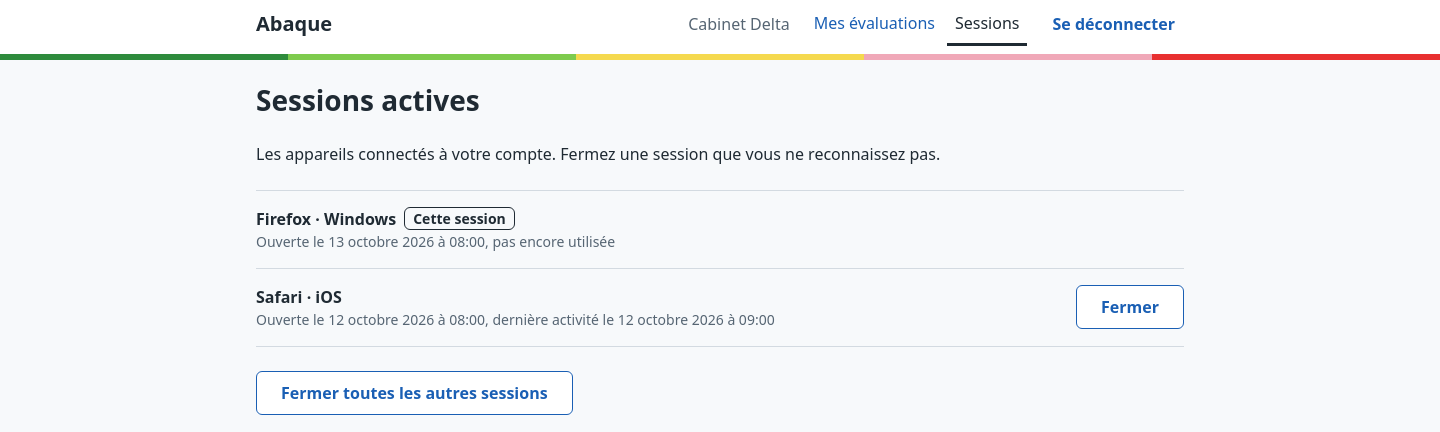
Test: signed-in pages › lists sessions, marks the current one and closes another
The width and height of the screenshot is (1440, 432).
Expected: the text "Cette session" is shown, [404,207,515,230]
Click the button "Fermer": (1130, 307) [1076,285,1184,329]
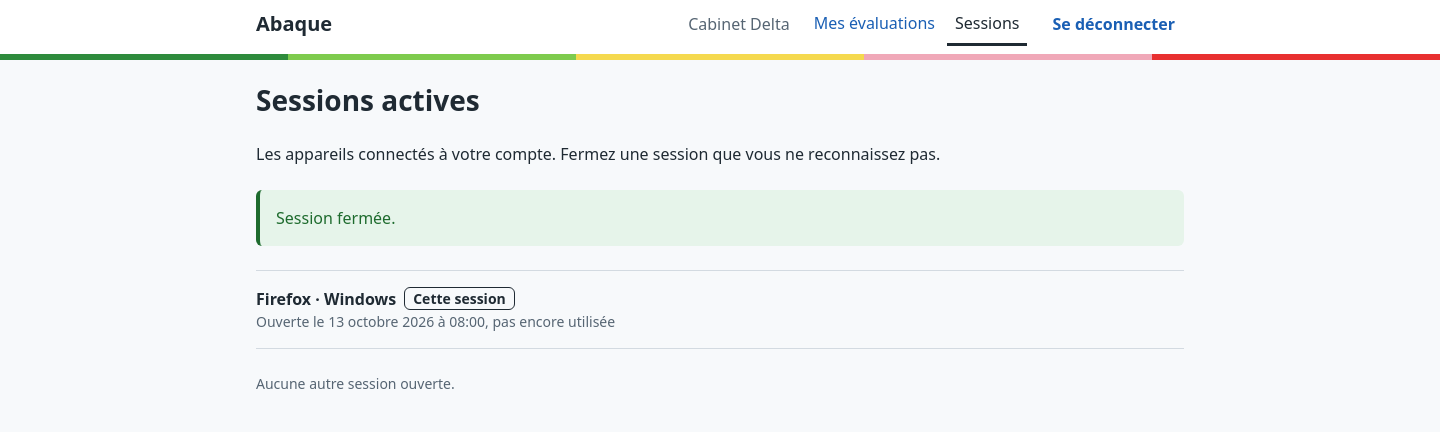
Expected: the text "Session fermée." is shown, [256,190,1184,246]
Expected: the text "Safari · iOS" is gone
Expected: the text "Aucune autre session ouverte." is shown, [256,374,455,393]
